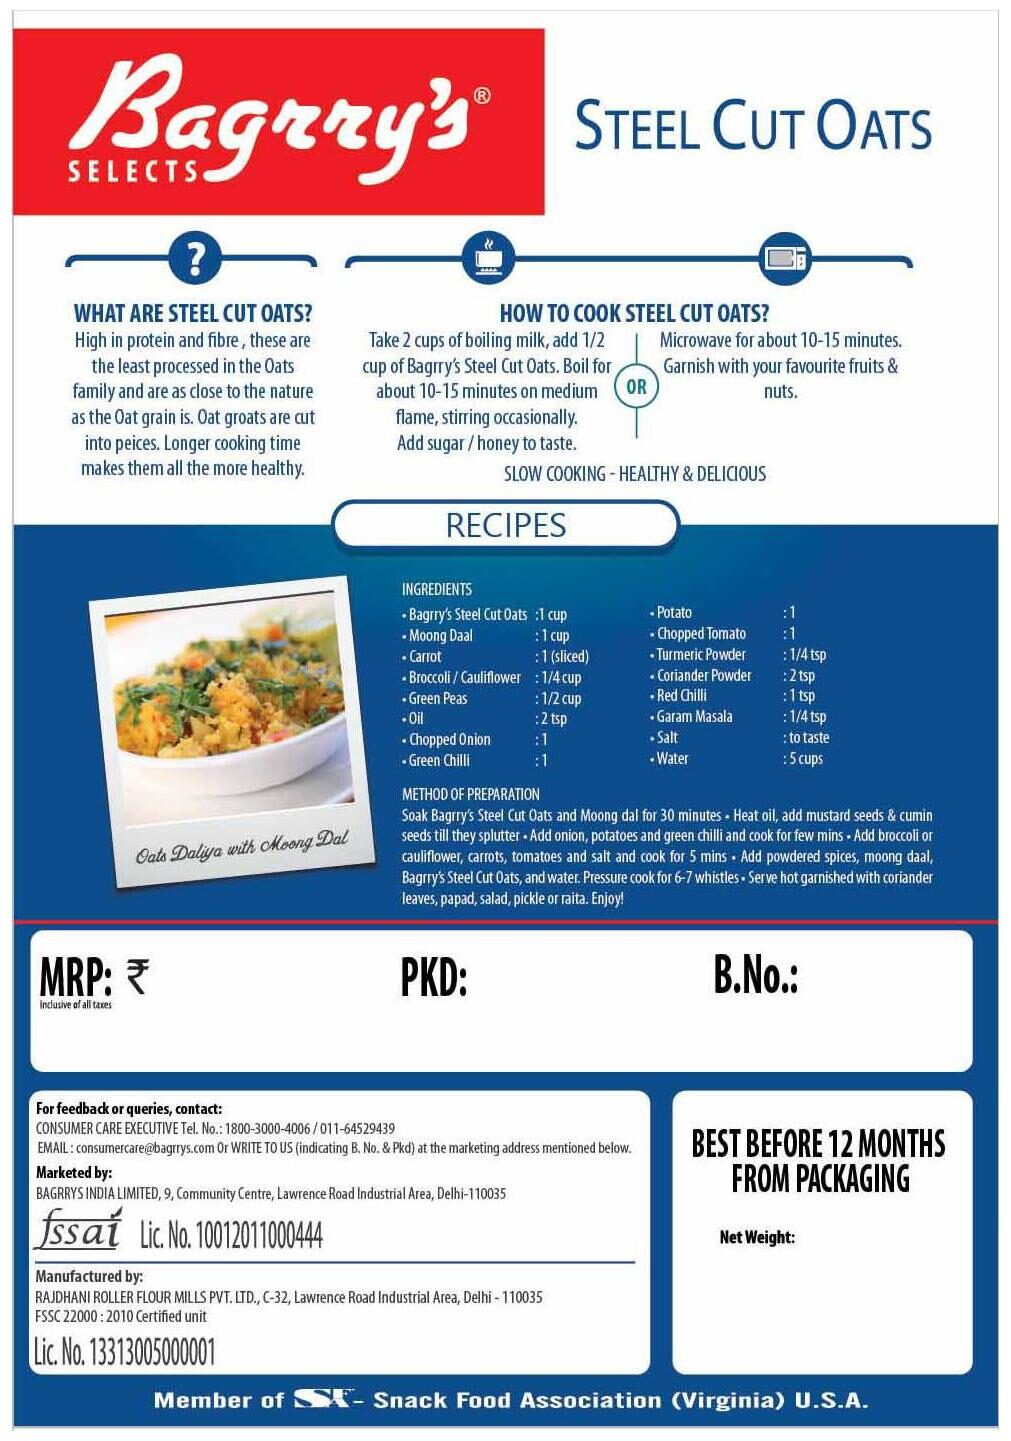fssai: (32, 1204, 124, 1253)
